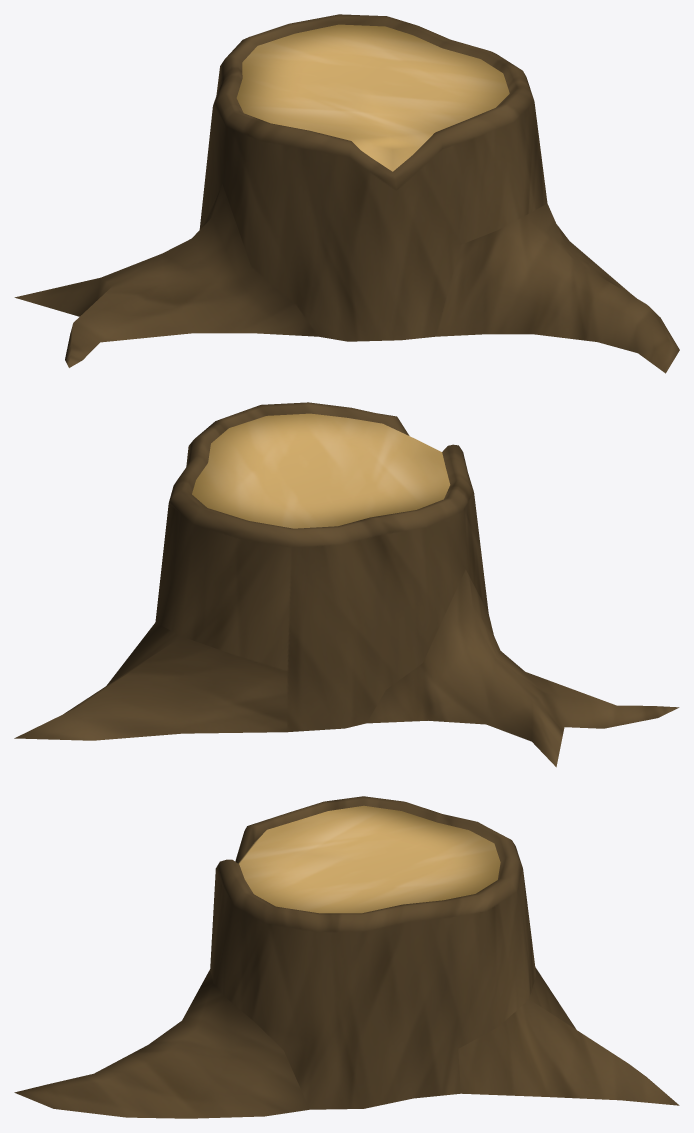
File: FactoryInput.fbx
3 renders of one model, top to bottom at view 1: azimuth 30°, elevation 25°; view 2: azimuth 150°, elevation 25°; view 3: azimuth 270°, elevation 25°, orthographic. The views are drawn at different scales.
Visible parts, largest first — view 1: FactoryStump_low; view 2: FactoryStump_low; view 3: FactoryStump_low.
Part boxes in pixels (left/top/right/bottom): FactoryStump_low: left=14, top=14, right=679, bottom=373; FactoryStump_low: left=14, top=402, right=679, bottom=767; FactoryStump_low: left=14, top=796, right=679, bottom=1118.
Bounding box in the file's own units: 1.35 × 0.4835 × 1.61.
